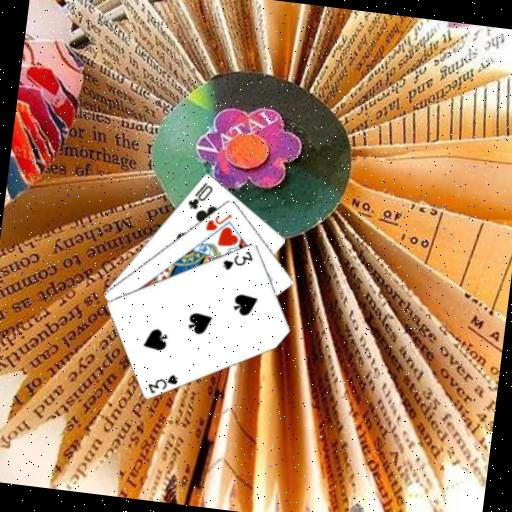10C: (184, 177, 215, 213)
3S: (220, 245, 256, 274), (144, 368, 180, 397)
JH: (203, 208, 235, 235)
